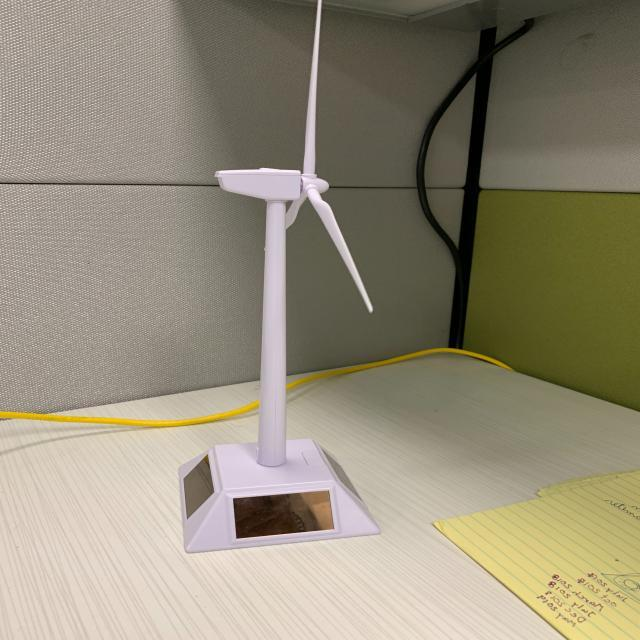solid-blade: (308, 186, 372, 312)
